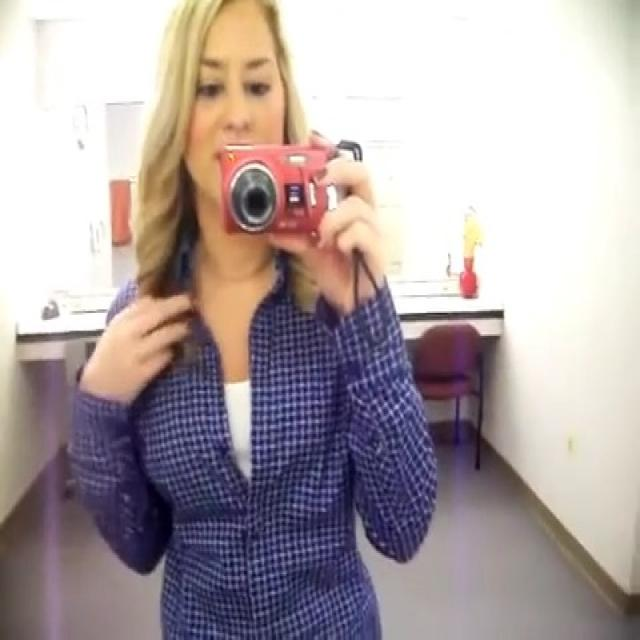shirt: (66, 234, 436, 640)
